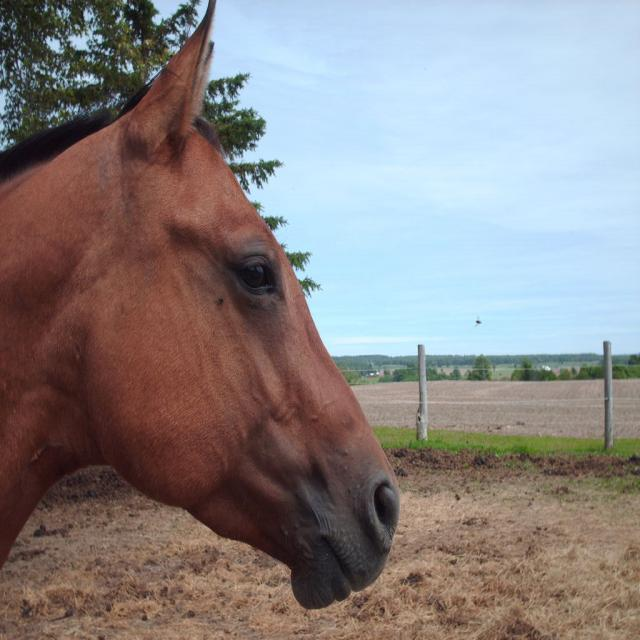Horse: (0, 0, 402, 611)
